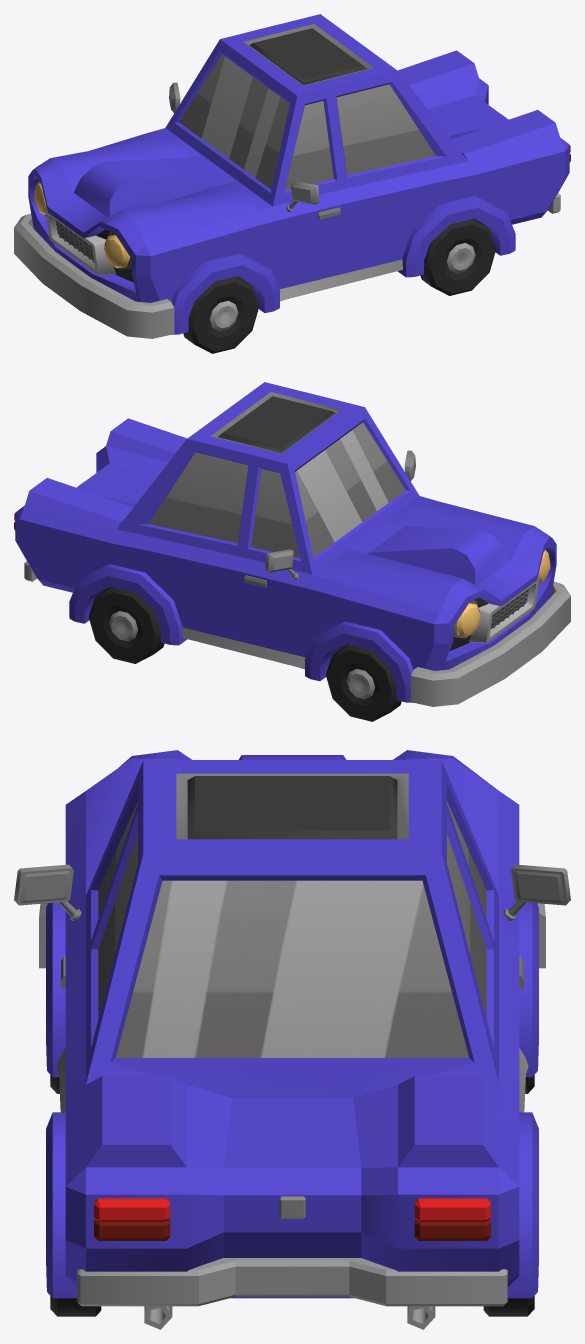
File: Car_17_O.gltf
The picture shows the model from 3 angles, top to bottom: view 1: azimuth 30°, elevation 25°; view 2: azimuth 150°, elevation 25°; view 3: azimuth 270°, elevation 25°; orthographic projection. The views are drawn at different scales.
Parts seen in each view (by area): view 1: Car_17_O, RL, FL; view 2: Car_17_O, RR, FR; view 3: Car_17_O, RL, RR.
Boxes of the visible parts, x1,y1,x2,y2 form: Car_17_O: (14, 14, 570, 338); RL: (420, 218, 496, 295); FL: (183, 276, 258, 353); Car_17_O: (14, 382, 570, 706); RR: (88, 586, 164, 663); FR: (326, 644, 401, 721); Car_17_O: (14, 750, 570, 1329); RL: (50, 1296, 101, 1316); RR: (483, 1296, 534, 1316).
Bounding box in the file's own units: 3.39 × 1.53 × 1.85.
4 materials, 4 textured.
